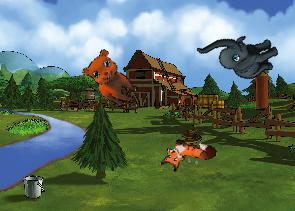bear: (77, 45, 147, 110)
elephant: (196, 13, 284, 96)
fox: (159, 134, 217, 179)
